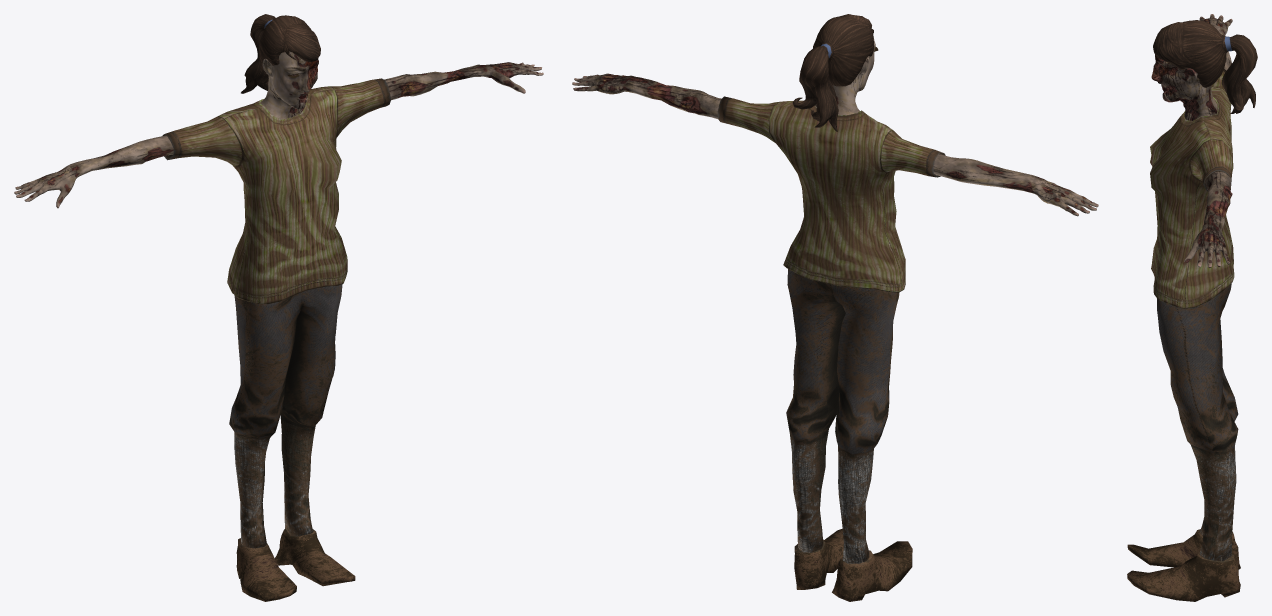
File: zombie1.obj
3 renders of one model, left to right at view 1: azimuth 30°, elevation 25°; view 2: azimuth 150°, elevation 25°; view 3: azimuth 270°, elevation 25°, orthographic.
Visible parts, largest first — view 1: Tops, Bottoms, Body, Shoes, Hair; view 2: Bottoms, Tops, Body, Hair, Shoes; view 3: Tops, Bottoms, Hair, Shoes, Body.
Boxes of the visible parts, x1=… form: Tops: x1=162, y1=78, x2=390, y2=304; Bottoms: x1=229, y1=284, x2=342, y2=548; Body: x1=14, y1=51, x2=543, y2=543; Shoes: x1=236, y1=529, x2=355, y2=601; Hair: x1=241, y1=14, x2=320, y2=93; Bottoms: x1=786, y1=269, x2=899, y2=563; Tops: x1=717, y1=96, x2=945, y2=292; Body: x1=572, y1=38, x2=1098, y2=562; Hair: x1=792, y1=14, x2=874, y2=131; Shoes: x1=794, y1=528, x2=912, y2=601; Tops: x1=1150, y1=69, x2=1234, y2=308; Bottoms: x1=1157, y1=283, x2=1238, y2=560; Hair: x1=1153, y1=20, x2=1257, y2=113; Shoes: x1=1127, y1=529, x2=1240, y2=601; Body: x1=1151, y1=14, x2=1232, y2=560.
Bounding box in the file's own units: 170 × 174 × 36.92.
Materials: 4 (4 with a texture image).
